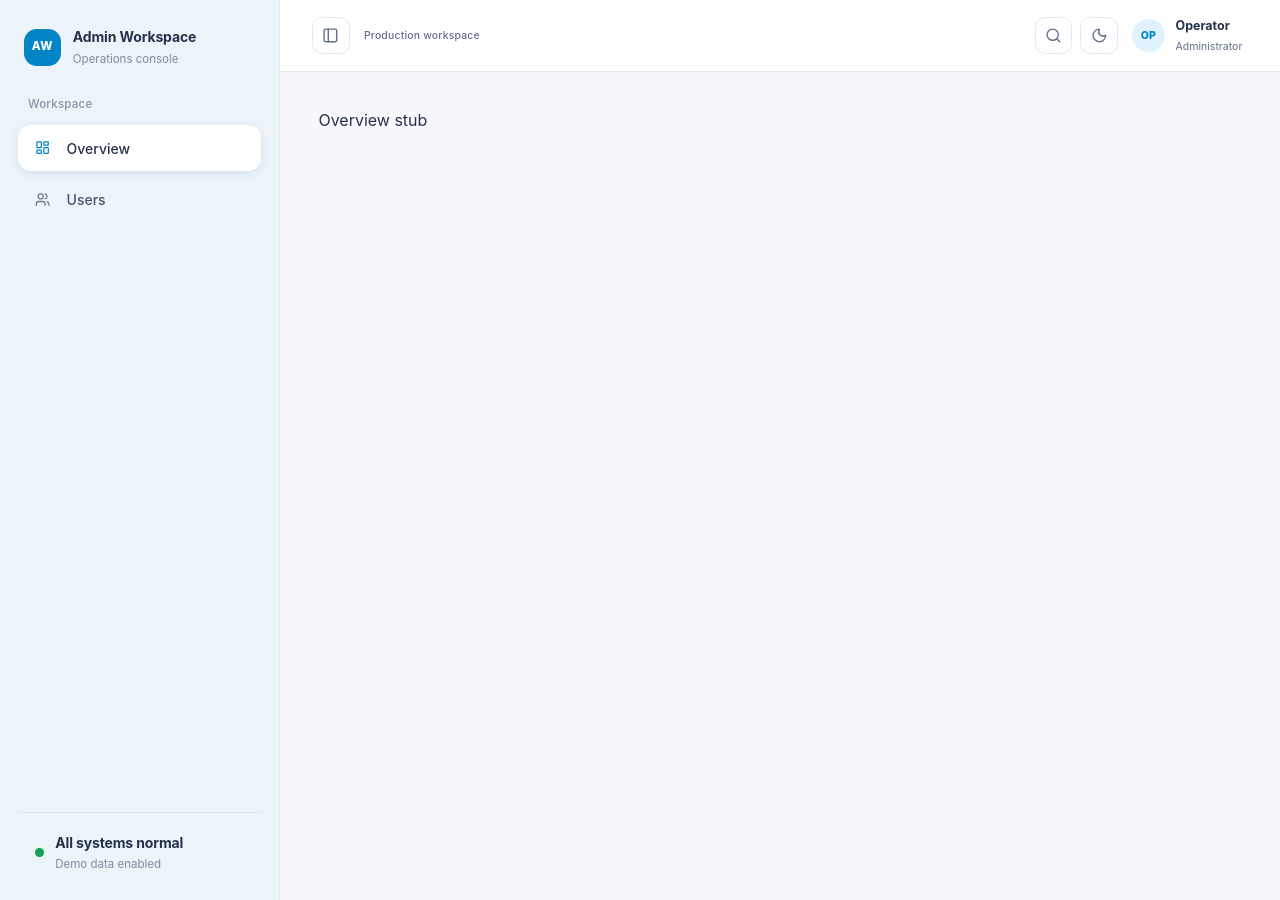
CommandMenu › opens with the keyboard shortcut and navigates to a page
The image size is (1280, 900).
Check: the text "Overview stub" is shown, box left=318, top=110, right=427, bottom=130
Type keys "{Control>}k{/Control}"
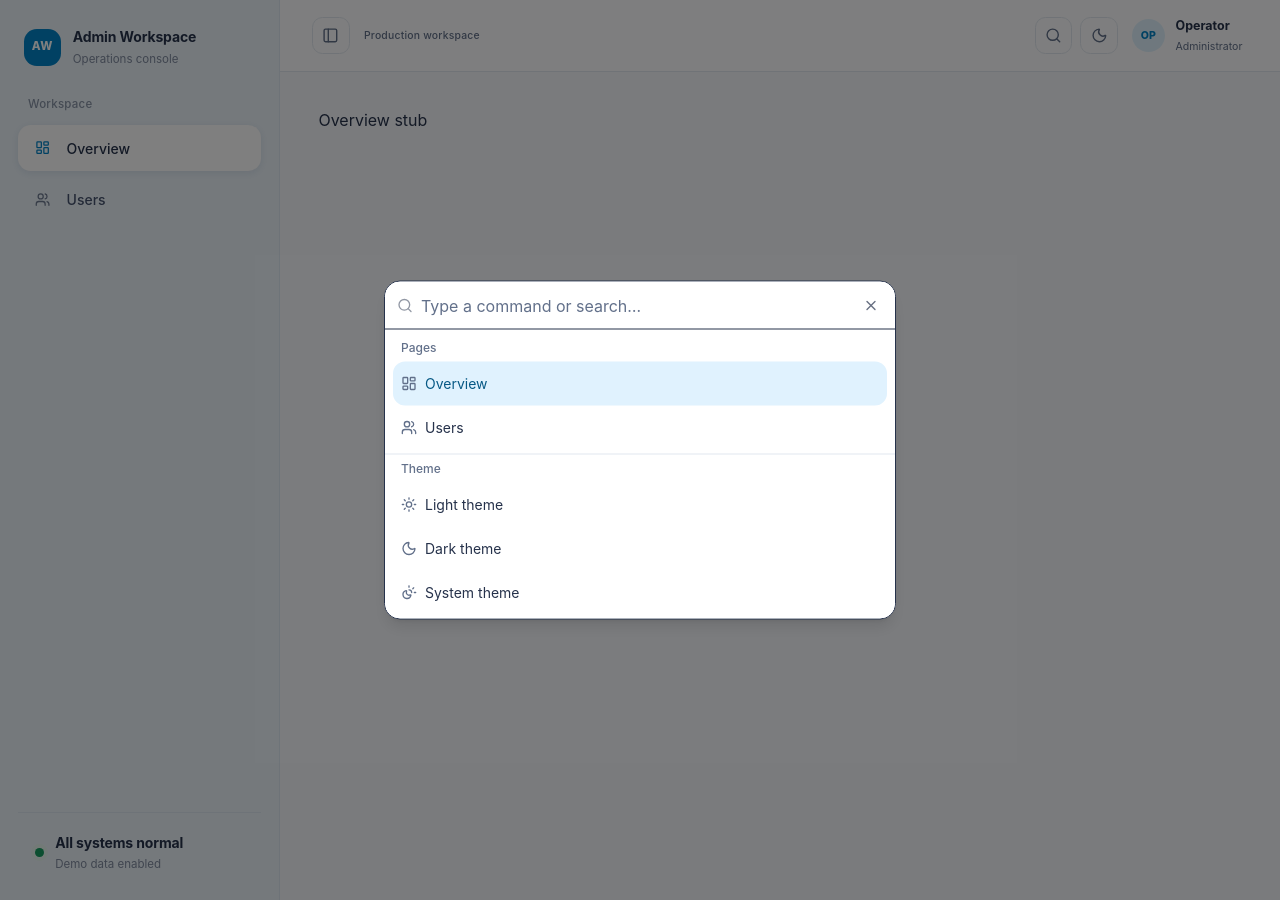
Check: the dialog is shown, box left=384, top=280, right=896, bottom=620
Click the option "Users".
click(432, 427)  # box left=401, top=418, right=464, bottom=436
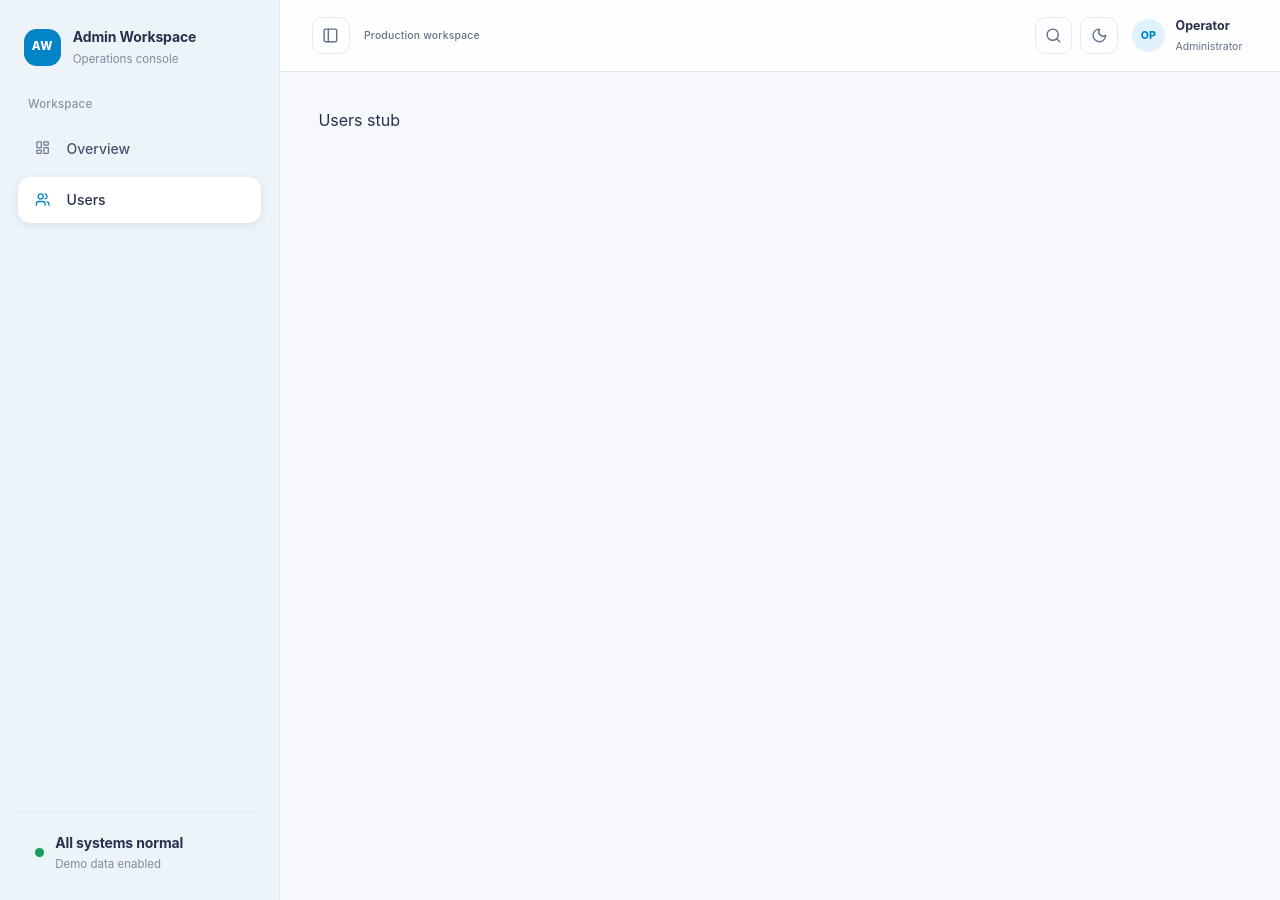
Check: the text "Users stub" is shown, box left=318, top=110, right=400, bottom=130
Check: the dialog is gone
